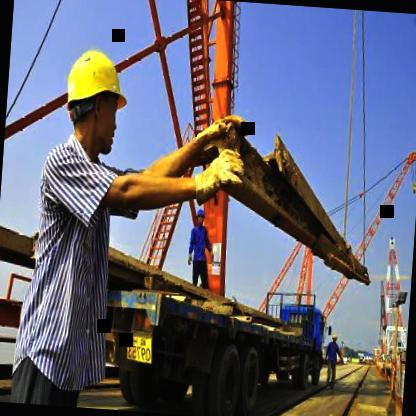helmet: (51, 35, 134, 168), (196, 209, 206, 228), (330, 331, 338, 346)
